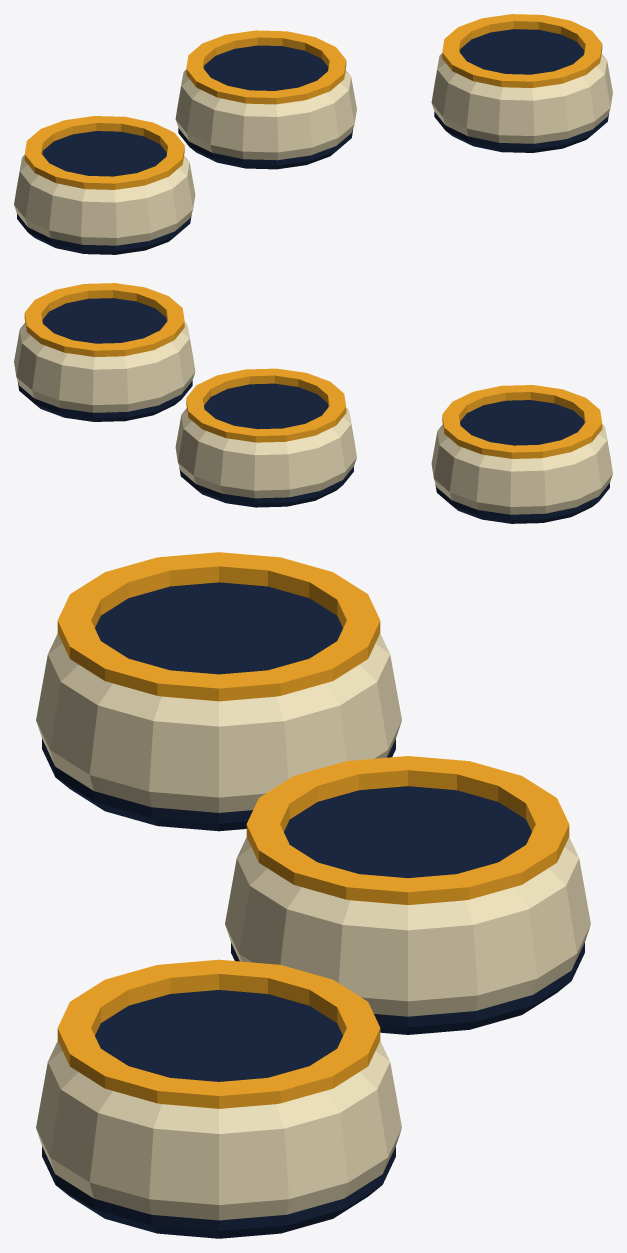
File: copy_memory_station.obj
3 renders of one model, top to bottom at view 1: azimuth 30°, elevation 25°; view 2: azimuth 150°, elevation 25°; view 3: azimuth 270°, elevation 25°, orthographic. The views are drawn at different scales.
Size of the model in its own units: 6.76 by 0.8 by 2.82.
